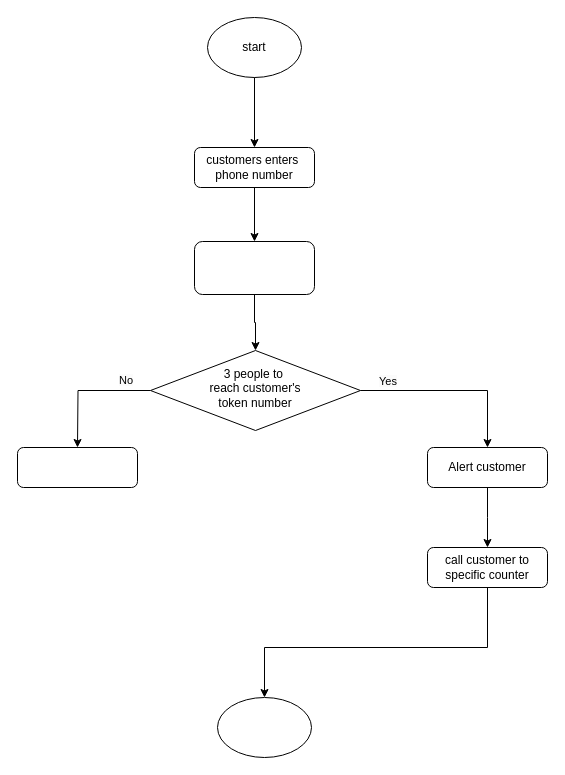
Some shapes in this 565 by 775 pixel diagram are drawn without their labels. The centre of each missing label's shape, as x and y in pixels:
customers gets SMS of token number: the point at 254,267
END: the point at 264,727
Wait: the point at 77,467
